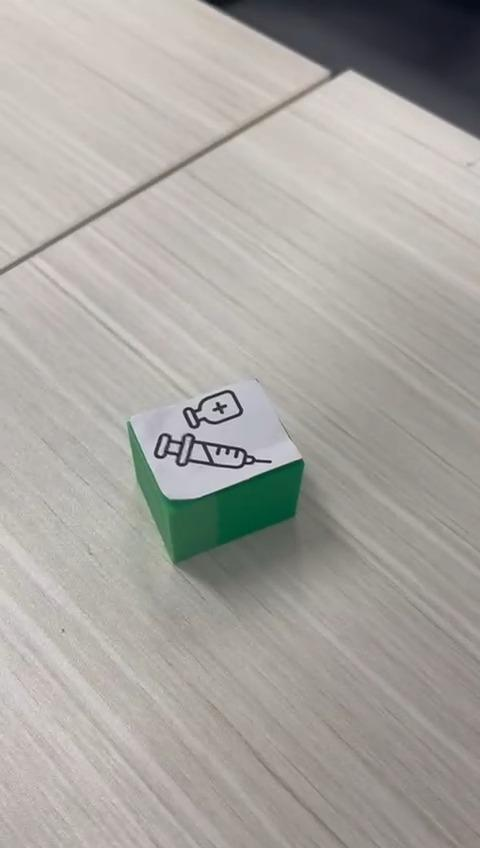antiseptic cream: (125, 376, 305, 565)
